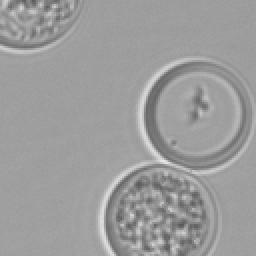picoshell: (144, 64, 250, 168), (104, 162, 218, 254)
